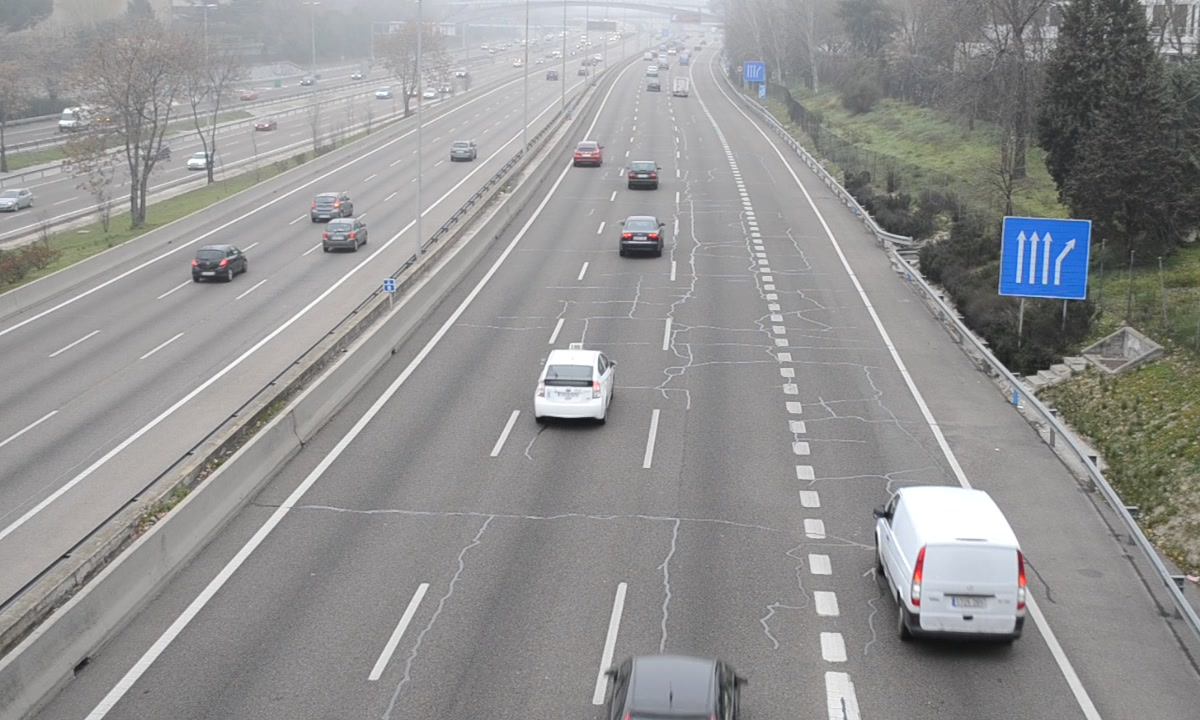car: (534, 351, 613, 418), (619, 215, 663, 255), (627, 159, 657, 187), (571, 140, 600, 168)
van: (873, 486, 1024, 646)
